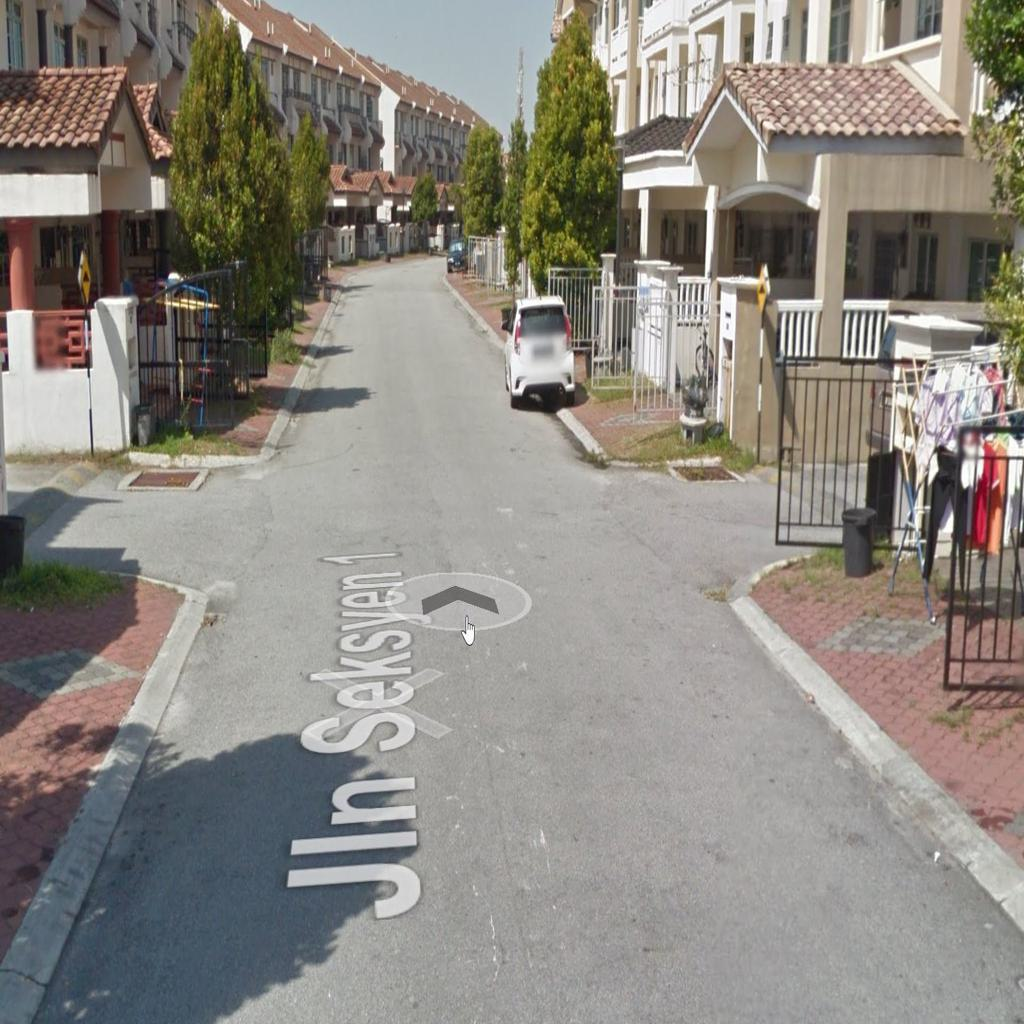Junction: (8, 401, 331, 637), (561, 427, 881, 630)
